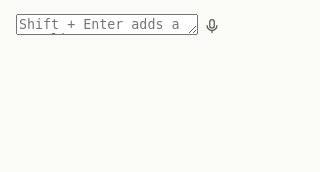
sending is possible once words were dictated, and it stops the microphone
What coordinates should you click on to do the following:
click the button named "Dictate"
I would click on:
 (212, 26)
Its box is [198,12,226,40].
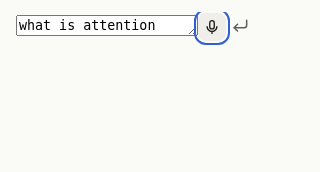
What coordinates should you click on to do the following:
click the button named "Send"
I would click on:
 (240, 26)
Its box is [226,12,254,40].
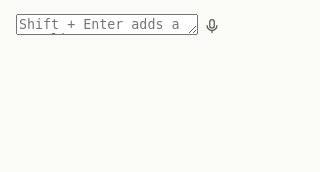
Expected: the text box named "Message" is empty, [16,14,198,35]
